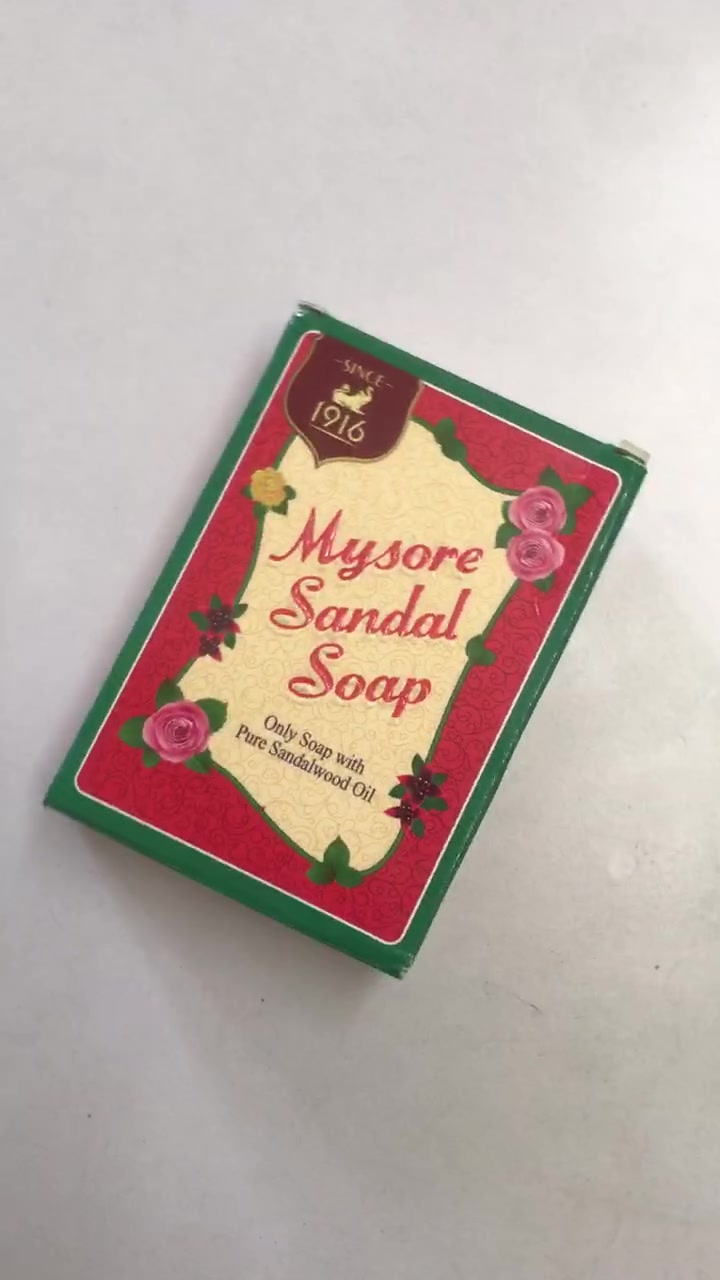mysore sandal soap: (38, 305, 646, 978)
